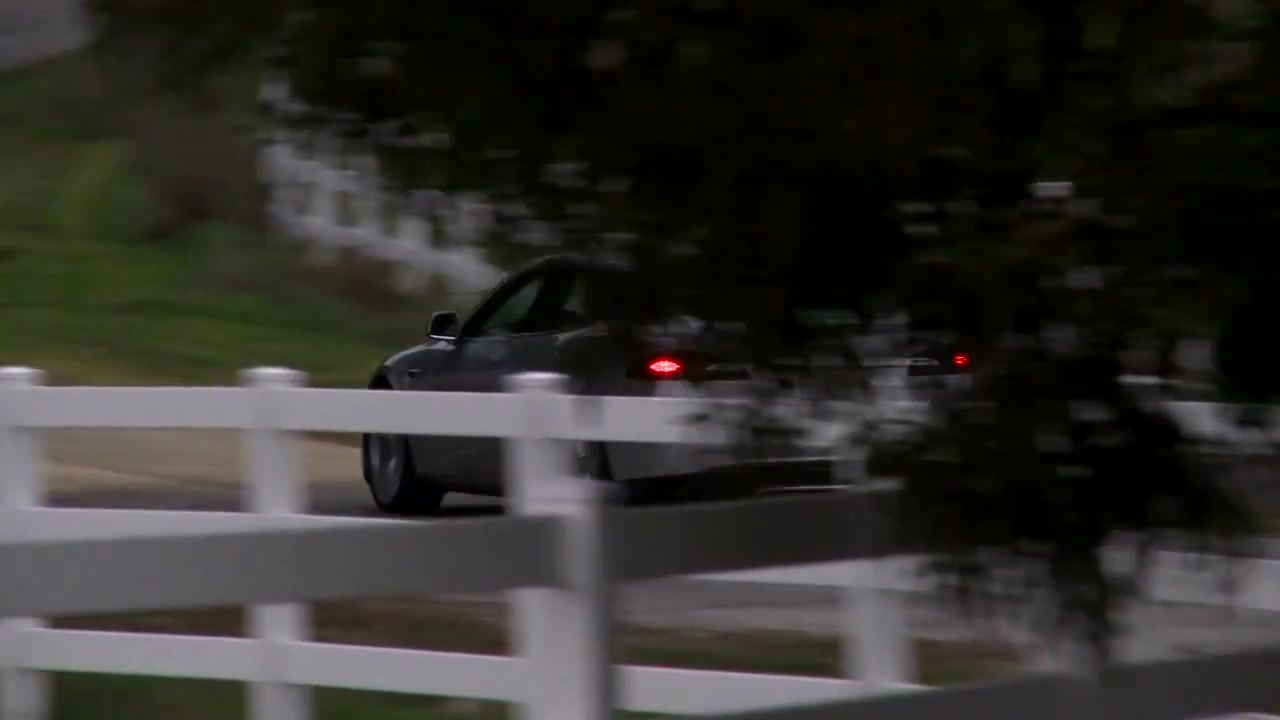car: (359, 241, 974, 532)
